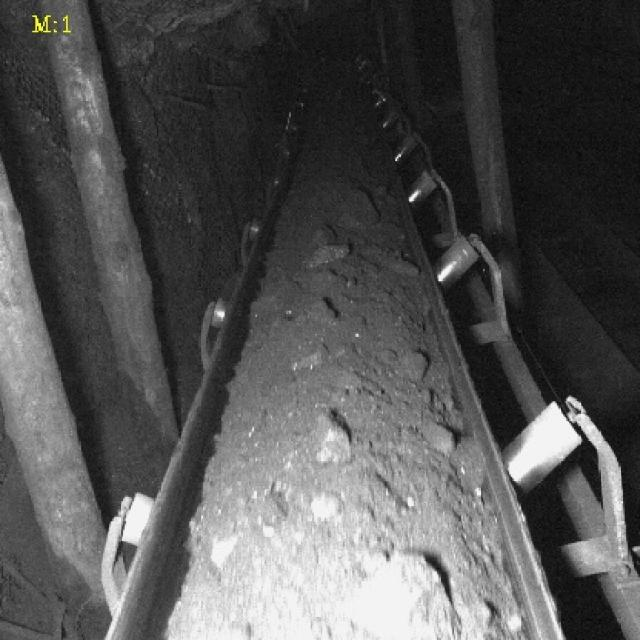large_sized_coal: (342, 544, 455, 640), (311, 416, 351, 466), (414, 417, 457, 454), (308, 492, 343, 528), (284, 345, 328, 372), (397, 351, 428, 383), (303, 246, 346, 266), (310, 222, 336, 248)
